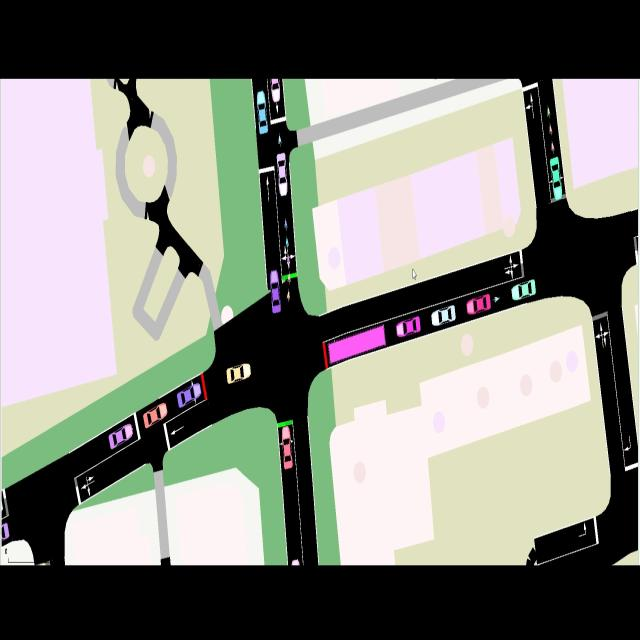vehicle: (327, 323, 388, 367), (174, 378, 204, 410), (141, 397, 170, 430), (547, 155, 566, 205), (107, 420, 135, 452), (464, 291, 494, 318), (268, 268, 284, 318), (277, 426, 295, 470), (430, 302, 458, 329), (396, 314, 422, 343), (254, 90, 270, 136), (226, 359, 252, 387), (510, 278, 540, 302), (276, 150, 290, 201)
